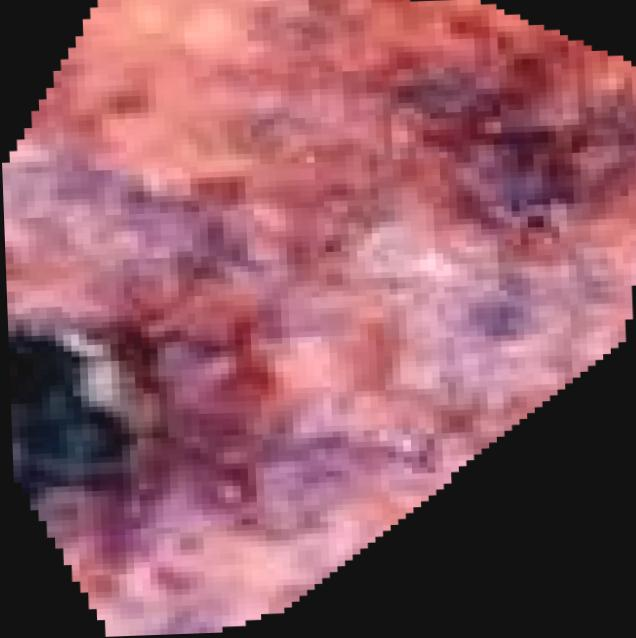Pitting Corrosion: (1, 0, 636, 637)
